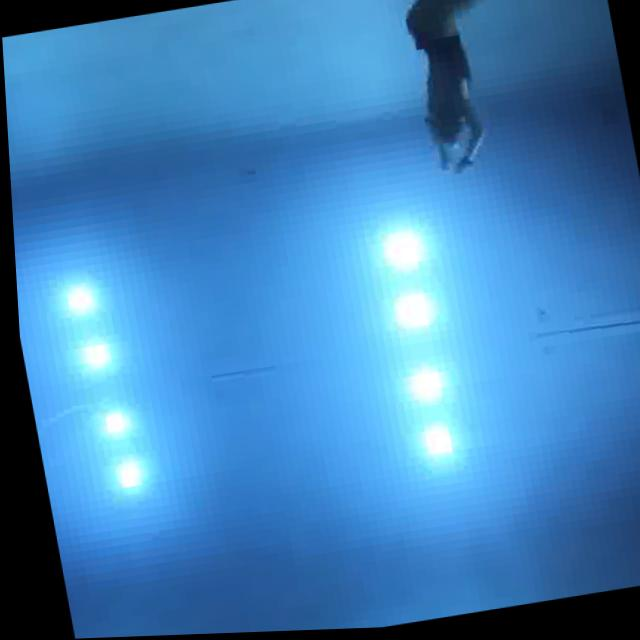human: (376, 0, 521, 191)
